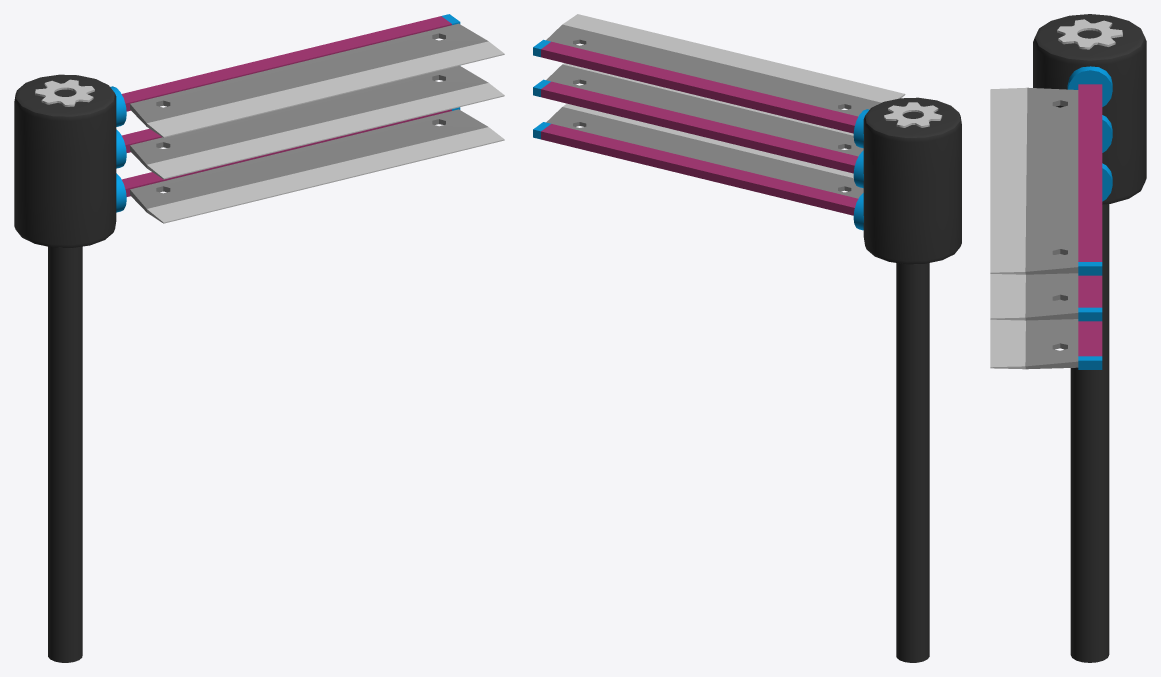
Rendered from _rap_01.fbx.
3 renders of one model, left to right at view 1: azimuth 30°, elevation 25°; view 2: azimuth 150°, elevation 25°; view 3: azimuth 270°, elevation 25°, orthographic. The views are drawn at different scales.
Visible parts, largest first — view 1: trap_01; view 2: trap_01; view 3: trap_01.
Boxes of the visible parts, x1,y1,x2,y2 form: trap_01: [14, 14, 504, 662]; trap_01: [533, 14, 961, 662]; trap_01: [990, 14, 1146, 662].
Bounding box in the file's own units: 2091 × 2567 × 586.
